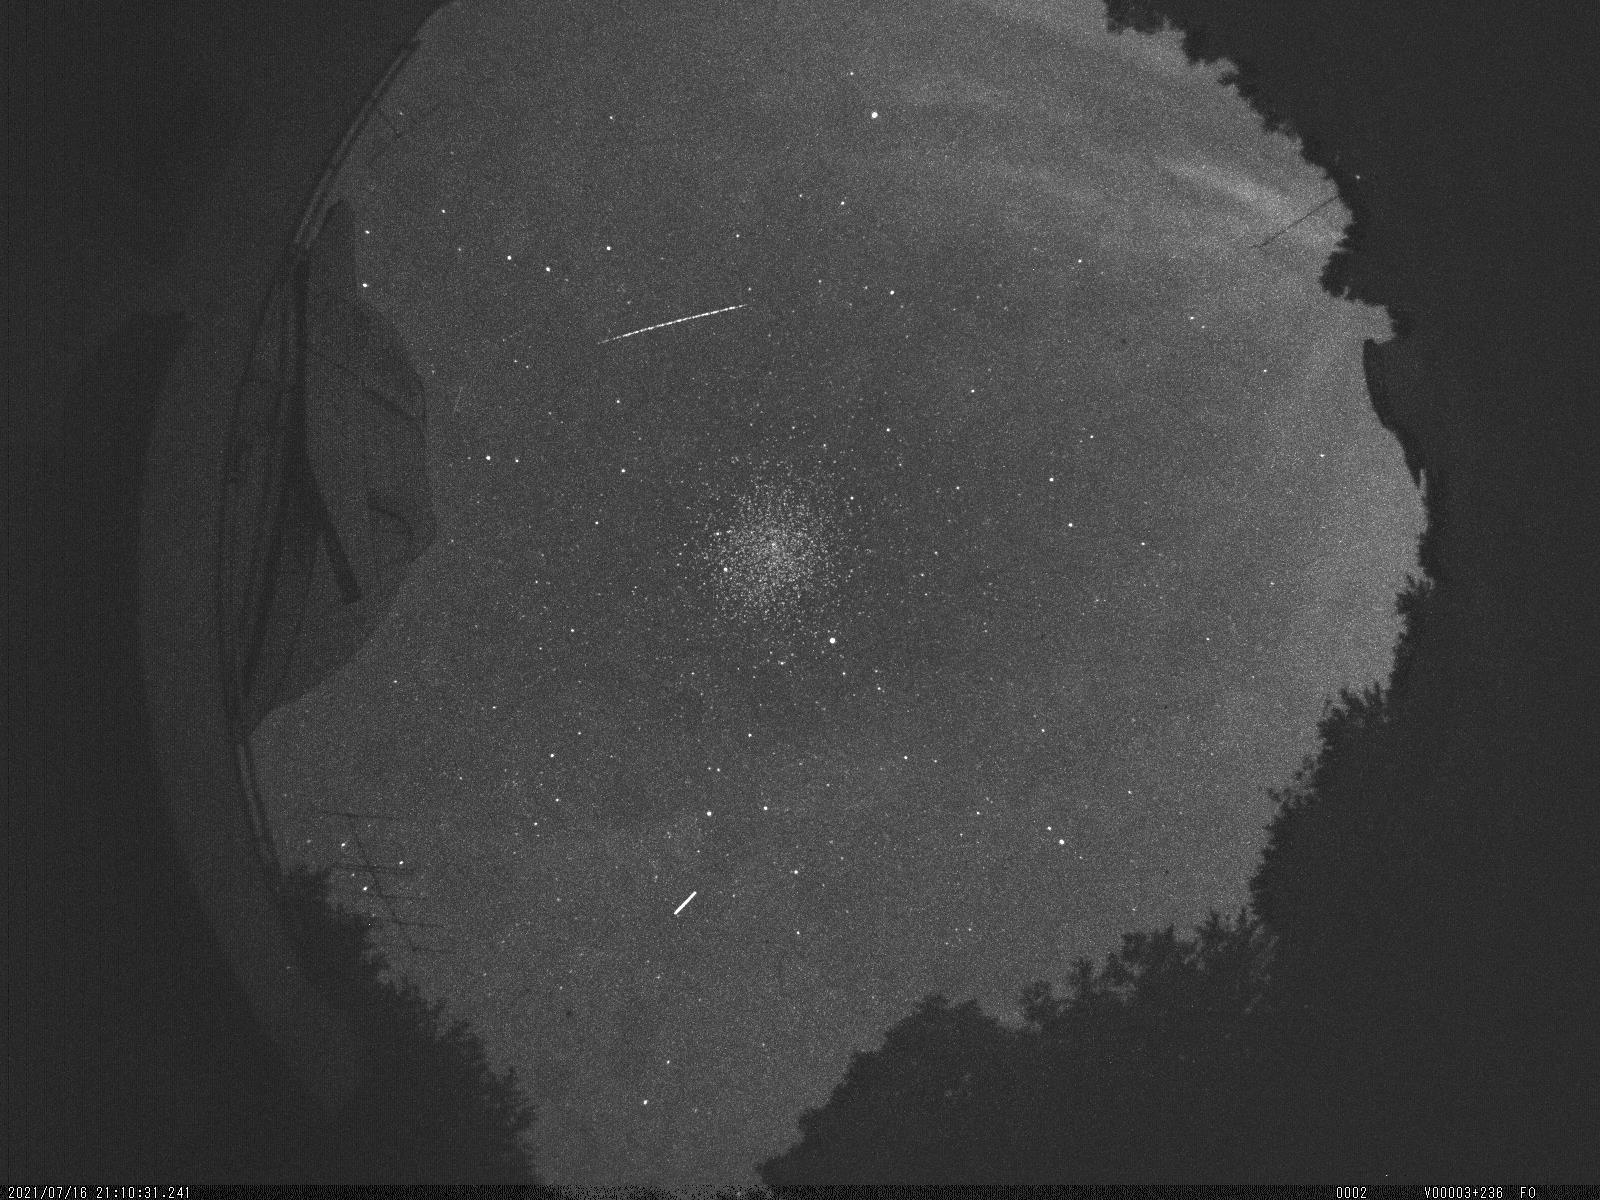Meteor: (595, 294, 753, 353)
